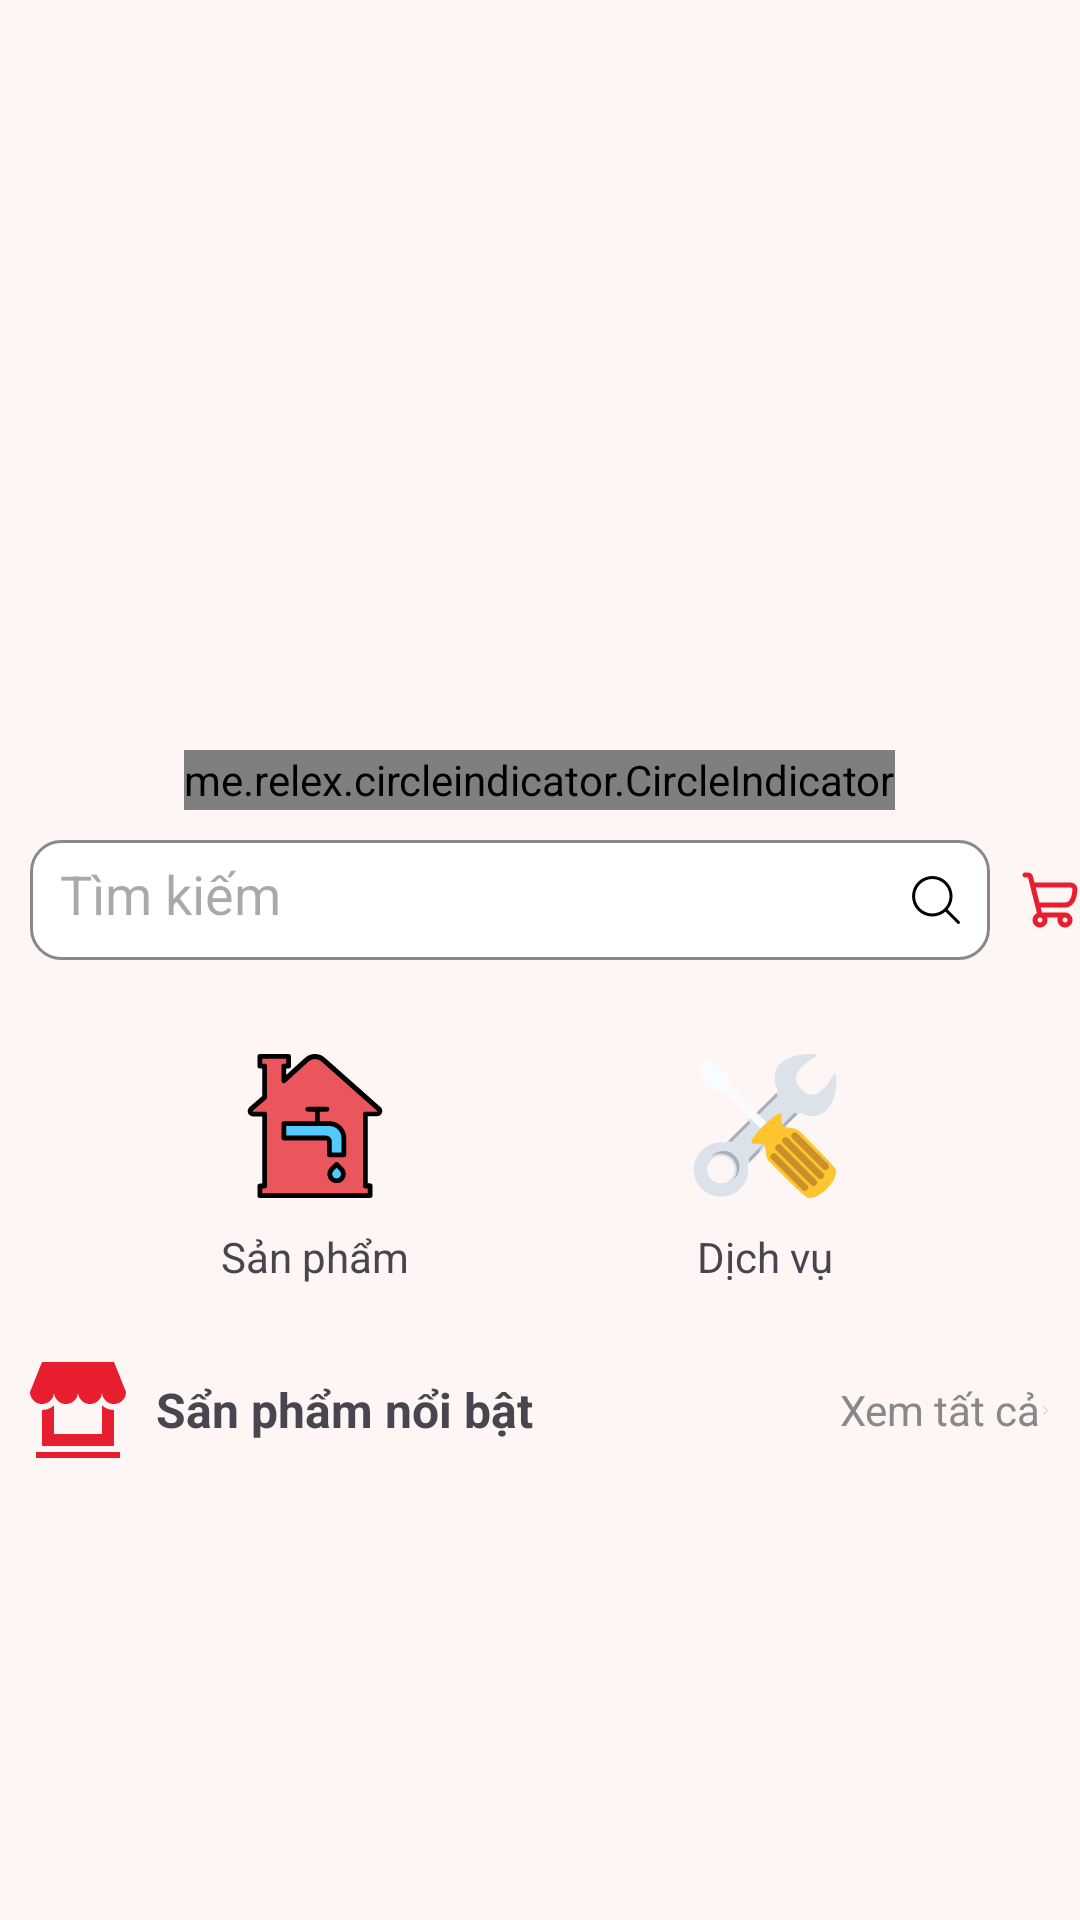

Named icons in this screenshot (1080x1920) and their centers, point (x, y):
giohang: point (1050, 900)
store: point (78, 1410)
